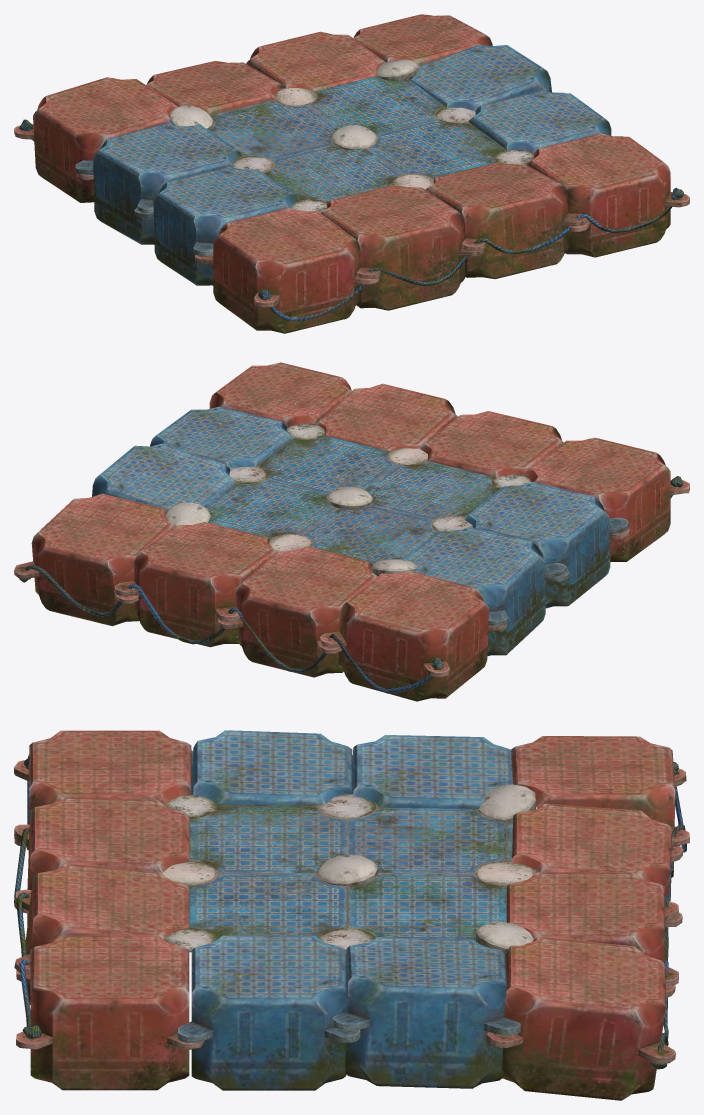
Rendered from floating_walkway_plastic_300x300_a.glb.
The picture shows the model from 3 angles, top to bottom: view 1: azimuth 30°, elevation 25°; view 2: azimuth 150°, elevation 25°; view 3: azimuth 270°, elevation 25°; orthographic projection. The views are drawn at different scales.
Parts seen in each view (by area): view 1: floating_walkway_plastic_300x300_a_LOD0; view 2: floating_walkway_plastic_300x300_a_LOD0; view 3: floating_walkway_plastic_300x300_a_LOD0.
Part boxes in pixels (left/top/right/bottom): floating_walkway_plastic_300x300_a_LOD0: left=14, top=14, right=689, bottom=333; floating_walkway_plastic_300x300_a_LOD0: left=14, top=362, right=689, bottom=701; floating_walkway_plastic_300x300_a_LOD0: left=14, top=730, right=689, bottom=1100.
Bounding box in the file's own units: 3.17 × 0.6045 × 3.19.
Materials: 2 (2 with a texture image).
